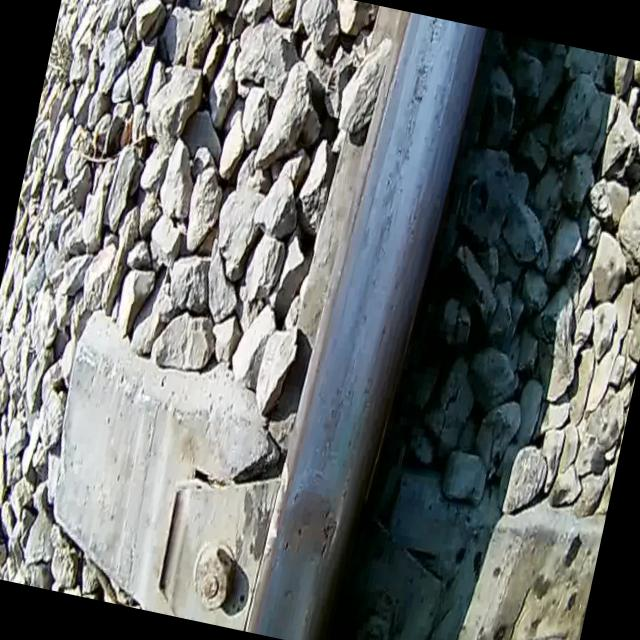Spallings: (310, 495, 344, 568)
Squats: (267, 477, 350, 575)
